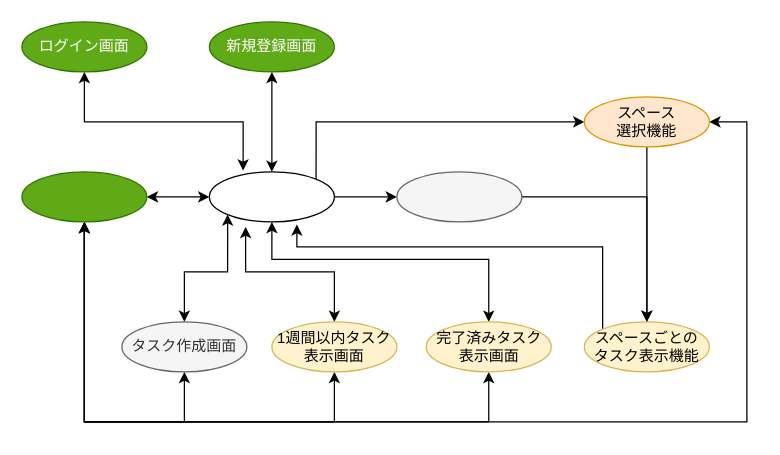
The diagram is 780 pixels wide and 455 high, and some of its shapes have lost their labels. Here are the shapes that lost their labels. From the top down, the centre of each, then its label:
the point at 84,196: マイページ
the point at 271,196: トップページ
the point at 459,196: スペース 作成機能
